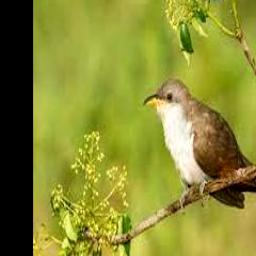Cuckoo: (143, 78, 256, 209)
